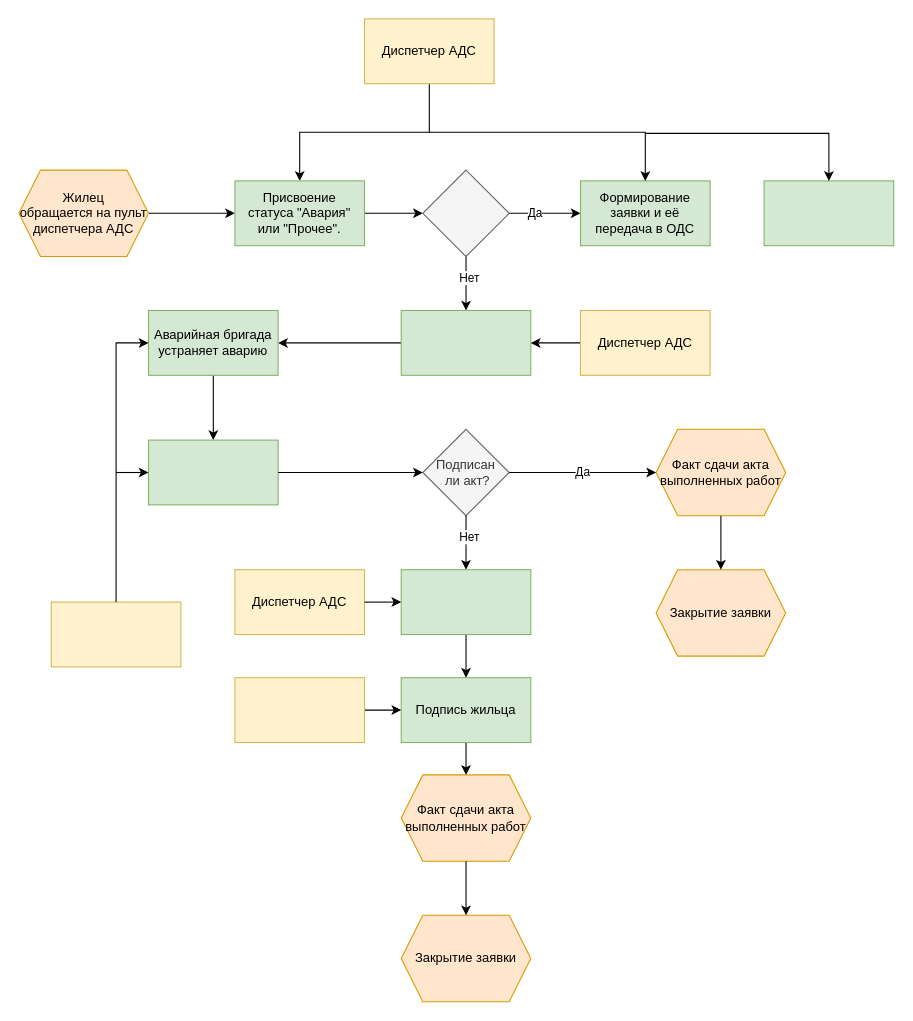
The diagram is 913 pixels wide and 1021 high, and some of its shapes have lost their labels. Each missing label, with the centre of its shape:
Аварийная бригада: the point at 115,634
Бригадир аварийной бригады оформляет акт выполненных работ: the point at 212,472
Выявление причины отказа: the point at 465,601
Жилец: the point at 299,709
Обработка заявки в ОДС: the point at 828,213
Прочее?: the point at 465,212
Формирование заявки и наряда: the point at 465,342
